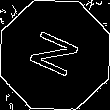N_SE: (24, 26, 86, 84)
